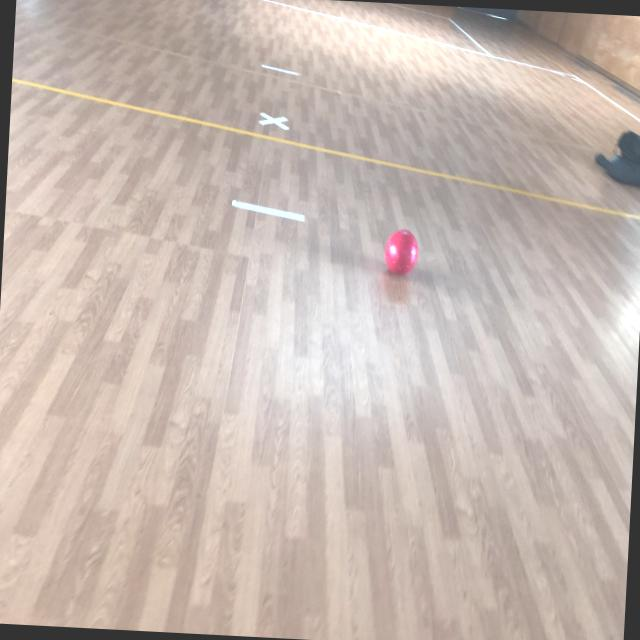red_ball: (384, 230, 420, 278)
